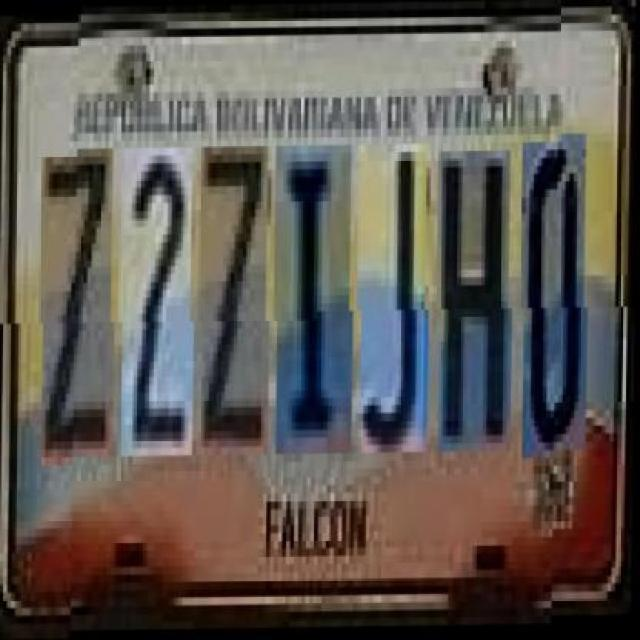0: (523, 143, 591, 460)
2: (121, 148, 197, 457)
h: (440, 152, 515, 453)
i: (276, 147, 356, 456)
j: (361, 144, 432, 453)
z: (42, 148, 118, 458), (202, 147, 272, 456)
